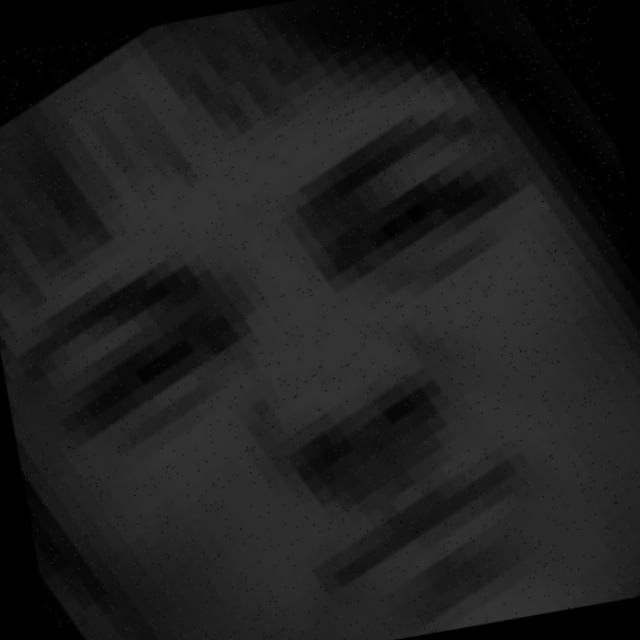Disgust: (29, 119, 640, 632)
